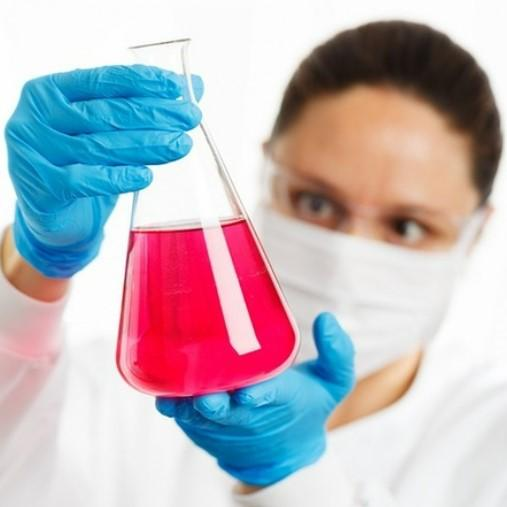Titrarion: (100, 30, 300, 385)
